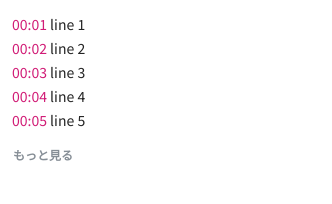
Scenario: TimestampComment › collapses long comments and toggles them open
Check: the text "line 1" is shown, box [47,14,85,34]
Check: the text "line 6" is not shown
Click the button "もっと見る". click: point(43, 155)
box: [12,146,74,164]
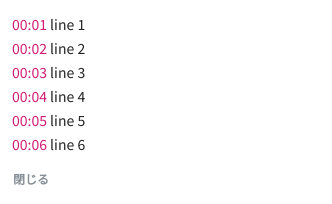
Check: the text "line 6" is shown, box [47,134,85,154]
Click the button "閉じる". click: point(31, 179)
box: [12,170,50,188]
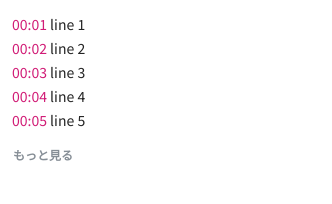
Check: the text "line 6" is gone
